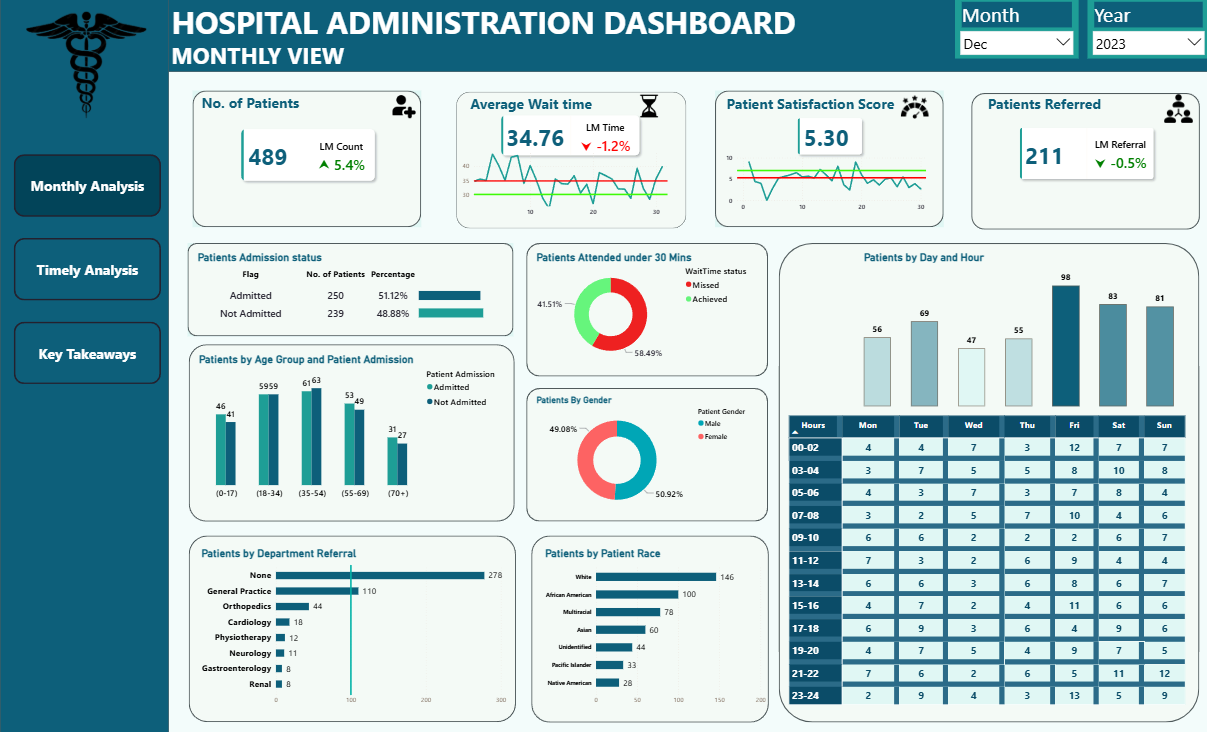

The page's visual inventory and layout, read from the dashboard file:
{"tool":"powerbi","page":{"name":"Monthly Analysis ","canvas":[2300,1400],"ordinal":0},"visuals":[{"type":"shape","box":[310,0,1990,140],"z":0},{"type":"textbox","box":[320,0,1200,87.5],"z":1000},{"type":"slicer","fields":{"Values":["Date_Table.Month_C"]},"box":[1817.5,2.5,235,112.5],"z":2000},{"type":"slicer","fields":{"Values":["Date_Table.Year_C"]},"box":[2067.5,2,232.5,112.5],"z":3000},{"type":"shape","box":[365,175,435,260],"z":4000},{"type":"shape","box":[867.5,177.5,437.5,260],"z":5000},{"type":"shape","box":[1360,175,435,260],"z":6000},{"type":"shape","box":[1847.5,180,435,260],"z":7000},{"type":"cardVisual","fields":{"Data":["Healtcare_Hospital_Data.No. of Patients"]},"box":[402,192,368,212],"z":8000},{"type":"textbox","box":[320.6,73.4,352.4,83.2],"z":9000},{"type":"textbox","box":[377.5,175,217.5,52.5],"z":10000},{"type":"cardVisual","fields":{"Data":["Healtcare_Hospital_Data.Average Wait Time"]},"box":[897.5,167.5,377.5,190],"z":12000},{"type":"textbox","box":[890,177.5,295,52.5],"z":13000},{"type":"areaChart","fields":{"Category":["Date_Table.Date.Variation.Date Hierarchy.Day"],"Y":["Avg(Healtcare_Hospital_Data.Patient Waittime)"]},"box":[875,282.5,400,142.5],"z":14000},{"type":"cardVisual","fields":{"Data":["Healtcare_Hospital_Data.AVG Score"]},"box":[1487.5,200,180,127.5],"z":15000},{"type":"textbox","box":[1377.5,177.5,342.5,55],"z":16000},{"type":"lineChart","fields":{"Category":["Date_Table.Date.Variation.Date Hierarchy.Day"],"Y":["Healtcare_Hospital_Data.Average Satisfaction Score"]},"box":[1377.5,290,390,125],"z":17000},{"type":"textbox","box":[1872.5,177.5,242.5,50],"z":18000},{"type":"cardVisual","fields":{"Data":["Healtcare_Hospital_Data.Patients Referred"]},"box":[1883.2,190.2,368.5,211.6],"z":19000},{"type":"shape","box":[357.5,465,620,177.5],"z":21000},{"type":"shape","box":[360,657.5,620,337.5],"z":22000},{"type":"tableEx","title":"Patients Admission status","fields":{"Values":["Healtcare_Hospital_Data.Patient Admission Flag","Healtcare_Hospital_Data.No. of Patients","Divide(Healtcare_Hospital_Data.No. of Patients, ScopedEval(Healtcare_Hospital_Data.No. of Patients, []))"]},"box":[372,480,602,150],"z":23000},{"type":"clusteredColumnChart","title":"Patients by Age Group and Patient Admission","fields":{"Category":["Healtcare_Hospital_Data.Age Group"],"Y":["Healtcare_Hospital_Data.No. of Patients"],"Series":["Healtcare_Hospital_Data.Patient Admission Flag"]},"box":[372.5,675,597.5,287.5],"z":24000},{"type":"shape","box":[360,1022.5,622.5,355],"z":25000},{"type":"clusteredBarChart","title":"Patients by Department Referral","fields":{"Y":["Healtcare_Hospital_Data.No. of Patients"],"Category":["Healtcare_Hospital_Data.Department Referral"]},"box":[377.5,1045,592.5,310],"z":26000},{"type":"shape","box":[1002,466,460,254],"z":27000},{"type":"donutChart","title":"Patients Attended under 30 Mins","fields":{"Category":["Healtcare_Hospital_Data.WaitTime status"],"Y":["Healtcare_Hospital_Data.No. of Patients"]},"box":[1016,480,430,220],"z":28000},{"type":"shape","box":[1002,742,460,254],"z":29000},{"type":"donutChart","title":"Patients By Gender","fields":{"Category":["Healtcare_Hospital_Data.Patient Gender"],"Y":["Healtcare_Hospital_Data.No. of Patients"]},"box":[1016,754,430,232],"z":30000},{"type":"shape","box":[1010,1022,452,356],"z":31000},{"type":"clusteredBarChart","title":"Patients by Patient Race","fields":{"Y":["Healtcare_Hospital_Data.No. of Patients"],"Category":["Healtcare_Hospital_Data.Patient Race"]},"box":[1032.5,1045,430,310],"z":32000},{"type":"shape","box":[1482,466,800,912],"z":33000},{"type":"pivotTable","fields":{"Rows":["Healtcare_Hospital_Data.Wait Time Interval"],"Columns":["Date_Table.Day_C"],"Values":["Healtcare_Hospital_Data.No. of Patients"]},"box":[1496,790,768,566],"z":34000},{"type":"columnChart","title":"Patients by Day and Hour","fields":{"Category":["Date_Table.Day_C"],"Y":["Healtcare_Hospital_Data.No. of Patients"]},"box":[1637.5,480,602.5,302.5],"z":35000},{"type":"image","box":[747.5,180,43.8,52.5],"z":36000},{"type":"image","box":[1213.8,182.5,43.8,45],"z":37000},{"type":"image","box":[1711.2,177.5,56.2,57.5],"z":38000},{"type":"image","box":[2205.7,182.9,70,54.3],"z":39000},{"type":"shape","box":[0,0,320.6,1399.9],"z":40000},{"type":"image","box":[23.8,26.2,280.6,202.1],"z":41000},{"type":"pageNavigator","title":"Menu","box":[25,297.5,280,437.5],"z":42000},{"type":"barChart","fields":{"Y":["Healtcare_Hospital_Data.No. of Patients"],"Category":["Healtcare_Hospital_Data.Patient Admission Flag"]},"box":[791.4,527.1,157.1,104.3],"z":43000}]}

Visuals, with their boxes in screenshot pixels (x1, y1, x2, y2), scaled from the page's 2300x1400 canvas onto the 1207x732 screenshot:
shape: l=163, t=0, r=1206, b=73
textbox: l=168, t=0, r=798, b=46
slicer - Date_Table.Month_C: l=954, t=1, r=1077, b=60
slicer - Date_Table.Year_C: l=1085, t=1, r=1206, b=60
shape: l=192, t=92, r=420, b=227
shape: l=455, t=93, r=685, b=229
shape: l=714, t=92, r=942, b=227
shape: l=970, t=94, r=1198, b=230
cardVisual - Healtcare_Hospital_Data.No. of Patients: l=211, t=100, r=404, b=211
textbox: l=168, t=38, r=353, b=82
textbox: l=198, t=92, r=312, b=119
cardVisual - Healtcare_Hospital_Data.Average Wait Time: l=471, t=88, r=669, b=187
textbox: l=467, t=93, r=622, b=120
areaChart - Date_Table.Date.Variation.Date Hierarchy.Day x Avg(Healtcare_Hospital_Data.Patient Waittime): l=459, t=148, r=669, b=222
cardVisual - Healtcare_Hospital_Data.AVG Score: l=781, t=105, r=875, b=171
textbox: l=723, t=93, r=903, b=122
lineChart - Date_Table.Date.Variation.Date Hierarchy.Day x Healtcare_Hospital_Data.Average Satisfaction Score: l=723, t=152, r=928, b=217
textbox: l=983, t=93, r=1110, b=119
cardVisual - Healtcare_Hospital_Data.Patients Referred: l=988, t=99, r=1182, b=210
shape: l=188, t=243, r=513, b=336
shape: l=189, t=344, r=514, b=520
"Patients Admission status" tableEx: l=195, t=251, r=511, b=329
"Patients by Age Group and Patient Admission" clusteredColumnChart: l=195, t=353, r=509, b=503
shape: l=189, t=535, r=516, b=720
"Patients by Department Referral" clusteredBarChart: l=198, t=546, r=509, b=708
shape: l=526, t=244, r=767, b=376
"Patients Attended under 30 Mins" donutChart: l=533, t=251, r=759, b=366
shape: l=526, t=388, r=767, b=521
"Patients By Gender" donutChart: l=533, t=394, r=759, b=516
shape: l=530, t=534, r=767, b=720
"Patients by Patient Race" clusteredBarChart: l=542, t=546, r=767, b=708
shape: l=778, t=244, r=1198, b=720
pivotTable - Healtcare_Hospital_Data.Wait Time Interval x Date_Table.Day_C: l=785, t=413, r=1188, b=709
"Patients by Day and Hour" columnChart: l=859, t=251, r=1176, b=409
image: l=392, t=94, r=415, b=122
image: l=637, t=95, r=660, b=119
image: l=898, t=93, r=928, b=123
image: l=1158, t=96, r=1194, b=124
shape: l=0, t=0, r=168, b=731
image: l=12, t=14, r=160, b=119
"Menu" pageNavigator: l=13, t=156, r=160, b=384
barChart - Healtcare_Hospital_Data.No. of Patients x Healtcare_Hospital_Data.Patient Admission Flag: l=415, t=276, r=498, b=330
